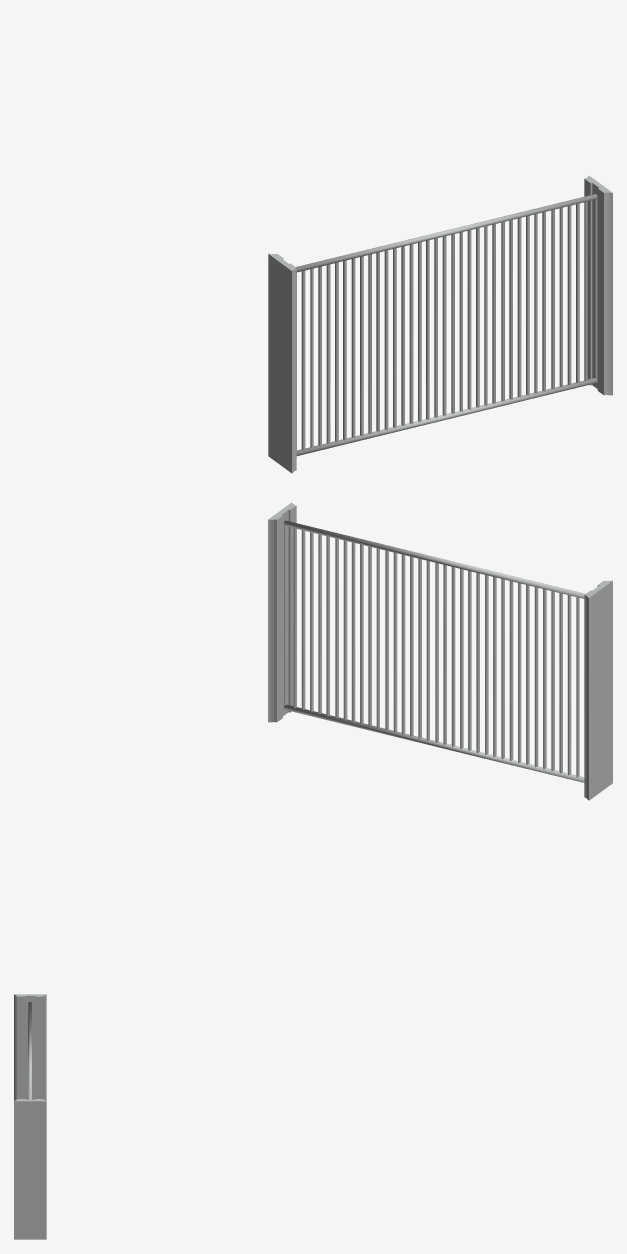
Rendered from FridgebodymeshFridgeB3_0_GeomSubset_2.obj.
3 views of the same model, one above another, from view 1: azimuth 30°, elevation 25°; view 2: azimuth 150°, elevation 25°; view 3: azimuth 270°, elevation 25° (orthographic). The views are drawn at different scales.
Parts seen in each view (by area): view 1: FridgebodymeshFridgeB3_0_GeomSubset_2; view 2: FridgebodymeshFridgeB3_0_GeomSubset_2; view 3: FridgebodymeshFridgeB3_0_GeomSubset_2.
Boxes of the visible parts, box(x1,y1,x2,y2) form: FridgebodymeshFridgeB3_0_GeomSubset_2: box(268, 175, 612, 473); FridgebodymeshFridgeB3_0_GeomSubset_2: box(268, 502, 612, 800); FridgebodymeshFridgeB3_0_GeomSubset_2: box(14, 994, 46, 1239).
Bounding box in the file's own units: 0.6479 × 0.3906 × 1.53.
